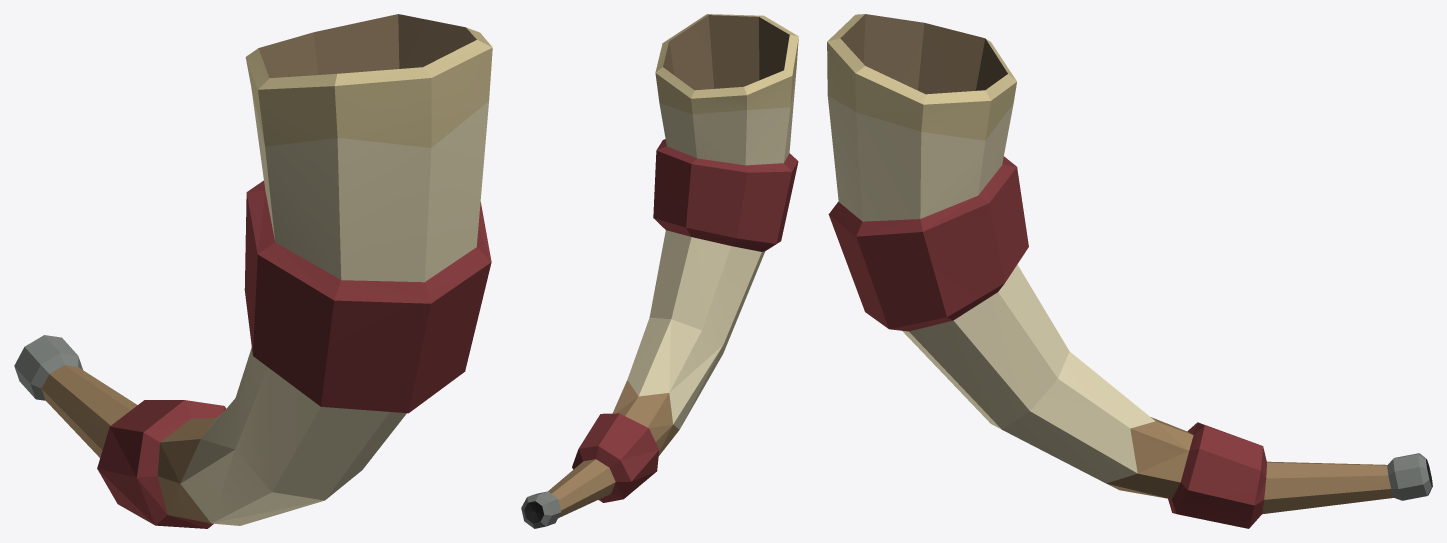
Rendered from Cuerno_01.glb.
3 renders of one model, left to right at view 1: azimuth 30°, elevation 25°; view 2: azimuth 150°, elevation 25°; view 3: azimuth 270°, elevation 25°, orthographic. The views are drawn at different scales.
Visible parts, largest first — view 1: SM_Wep_Horn_02; view 2: SM_Wep_Horn_02; view 3: SM_Wep_Horn_02.
Boxes of the visible parts, <box> form: SM_Wep_Horn_02: <box>14,14,492,528</box>; SM_Wep_Horn_02: <box>521,14,798,528</box>; SM_Wep_Horn_02: <box>827,14,1432,528</box>.
Size of the model in its own units: 0.2289 by 0.6301 by 0.7073.
1 material, 1 textured.
